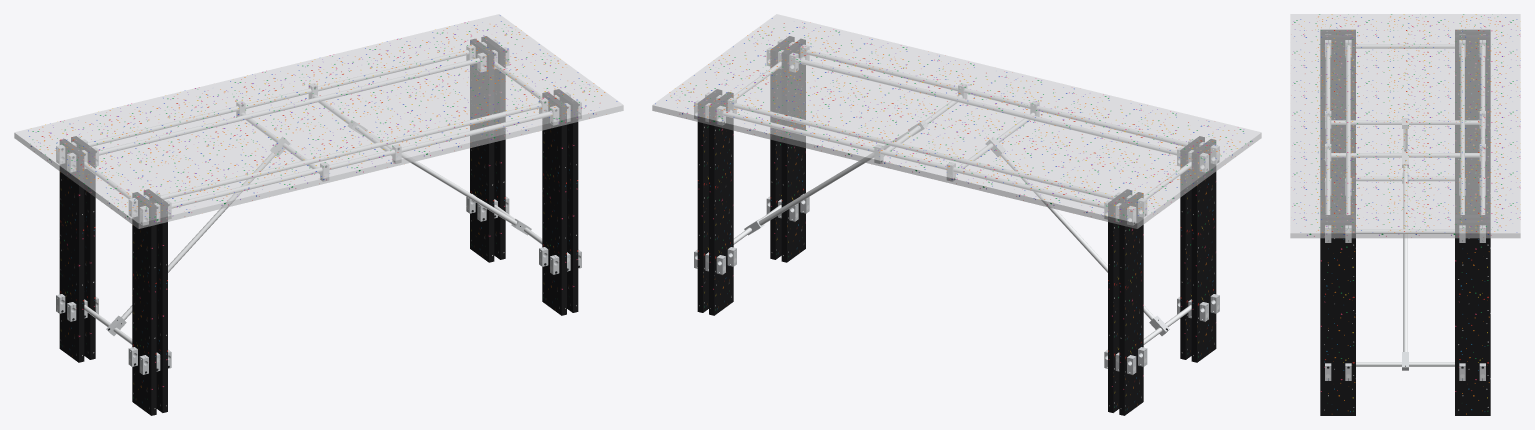
File: table.glb
3 renders of one model, left to right at view 1: azimuth 30°, elevation 25°; view 2: azimuth 150°, elevation 25°; view 3: azimuth 270°, elevation 25°, orthographic. The views are drawn at different scales.
Visible parts, largest first — view 1: RePanel · Столешница · rPS 20 мм · полупрозрачный, цветная к, RePanel · Ножка, доска · rPS 20 мм · чёрный, цветная крошка (×8), RePanel · вал Ø16 мм, сталь с хромом · ригель X (×4), RePanel · вал Ø16 мм, сталь с хромом · diag (×2); view 2: RePanel · Столешница · rPS 20 мм · полупрозрачный, цветная к, RePanel · Ножка, доска · rPS 20 мм · чёрный, цветная крошка (×8), RePanel · вал Ø16 мм, сталь с хромом · ригель X (×4), RePanel · вал Ø16 мм, сталь с хромом · diag (×2); view 3: RePanel · Столешница · rPS 20 мм · полупрозрачный, цветная к, RePanel · Ножка, доска · rPS 20 мм · чёрный, цветная крошка (×4), RePanel · вал Ø16 мм, сталь с хромом · ригель Y (×6), RePanel · вал Ø16 мм, сталь с хромом · ригель X (×4), RePanel · вал Ø16 мм, сталь с хромом · diag.
Boxes of the visible parts, bbox=[...] form: RePanel · Столешница · rPS 20 мм · полупрозрачный, цветная к: bbox=[14, 14, 623, 228]; RePanel · Ножка, доска · rPS 20 мм · чёрный, цветная крошка (×8): bbox=[59, 36, 578, 415]; RePanel · вал Ø16 мм, сталь с хромом · ригель X (×4): bbox=[57, 50, 552, 215]; RePanel · вал Ø16 мм, сталь с хромом · diag (×2): bbox=[121, 131, 516, 320]; RePanel · Столешница · rPS 20 мм · полупрозрачный, цветная к: bbox=[652, 14, 1261, 228]; RePanel · Ножка, доска · rPS 20 мм · чёрный, цветная крошка (×8): bbox=[697, 36, 1216, 415]; RePanel · вал Ø16 мм, сталь с хромом · ригель X (×4): bbox=[723, 50, 1218, 215]; RePanel · вал Ø16 мм, сталь с хромом · diag (×2): bbox=[759, 131, 1154, 320]; RePanel · Столешница · rPS 20 мм · полупрозрачный, цветная к: bbox=[1290, 14, 1520, 238]; RePanel · Ножка, доска · rPS 20 мм · чёрный, цветная крошка (×4): bbox=[1320, 35, 1490, 415]; RePanel · вал Ø16 мм, сталь с хромом · ригель Y (×6): bbox=[1331, 44, 1479, 366]; RePanel · вал Ø16 мм, сталь с хромом · ригель X (×4): bbox=[1326, 45, 1484, 234]; RePanel · вал Ø16 мм, сталь с хромом · diag: bbox=[1403, 165, 1407, 351].
Size of the model in its own units: 1.8 by 0.75 by 0.8.
Materials: 5 (2 with a texture image).
